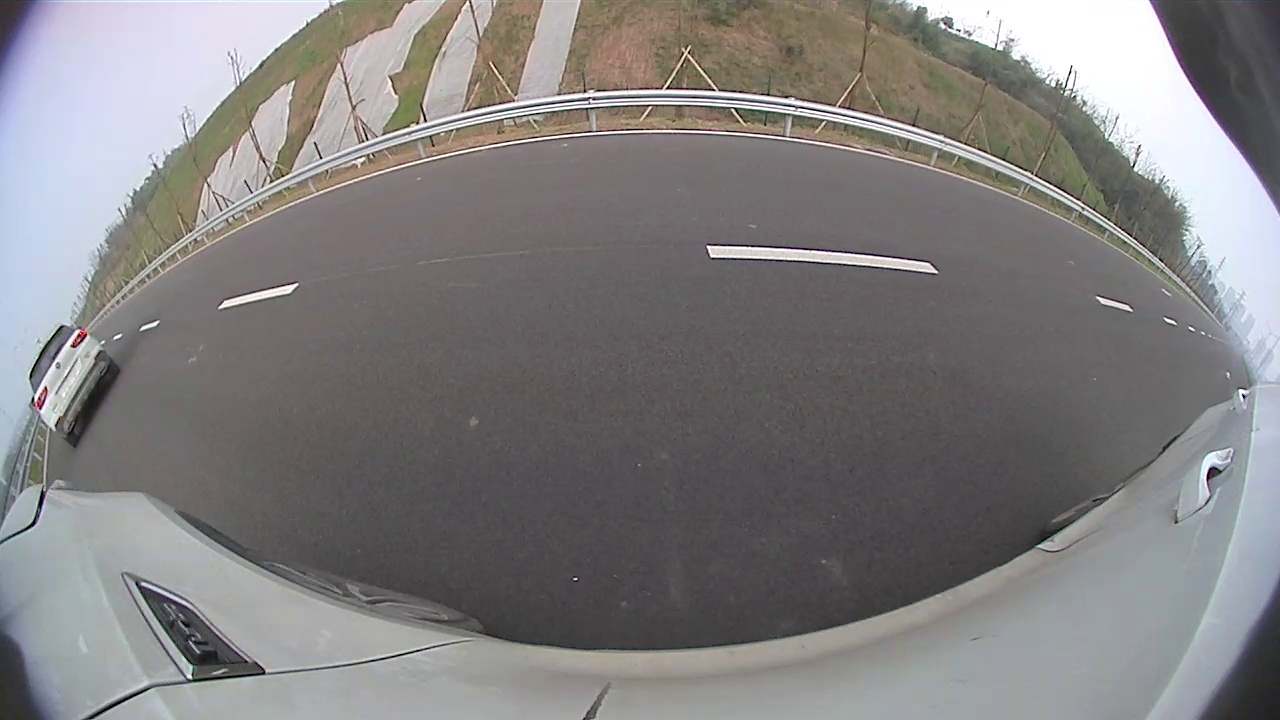car: (498, 154, 571, 207)
rear: (546, 178, 556, 199)
